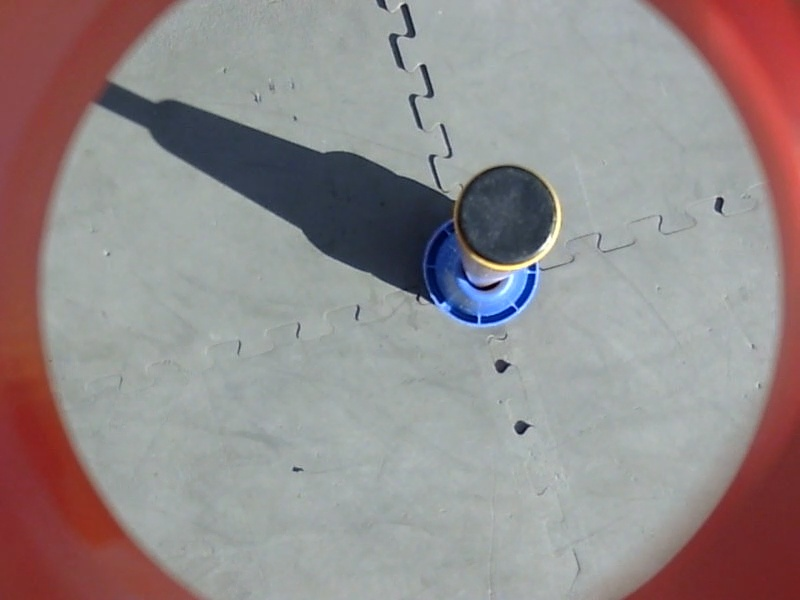tip: (448, 159, 566, 276)
